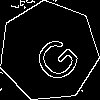G: (24, 26, 84, 87)
